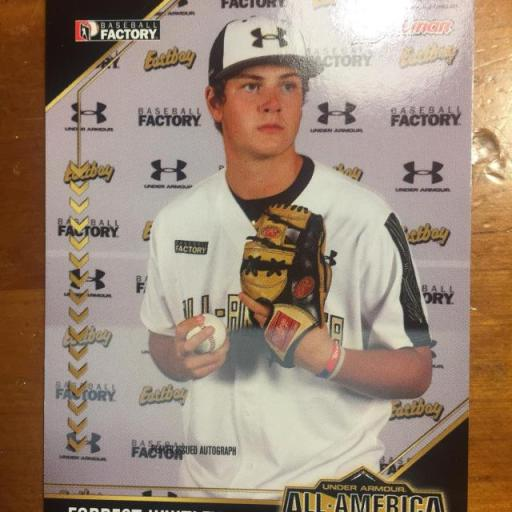Under Armour: (394, 153, 452, 197), (66, 100, 117, 134), (141, 157, 193, 190), (248, 23, 292, 49)
